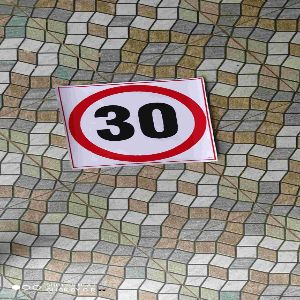speedlimit30: (56, 86, 211, 162)
